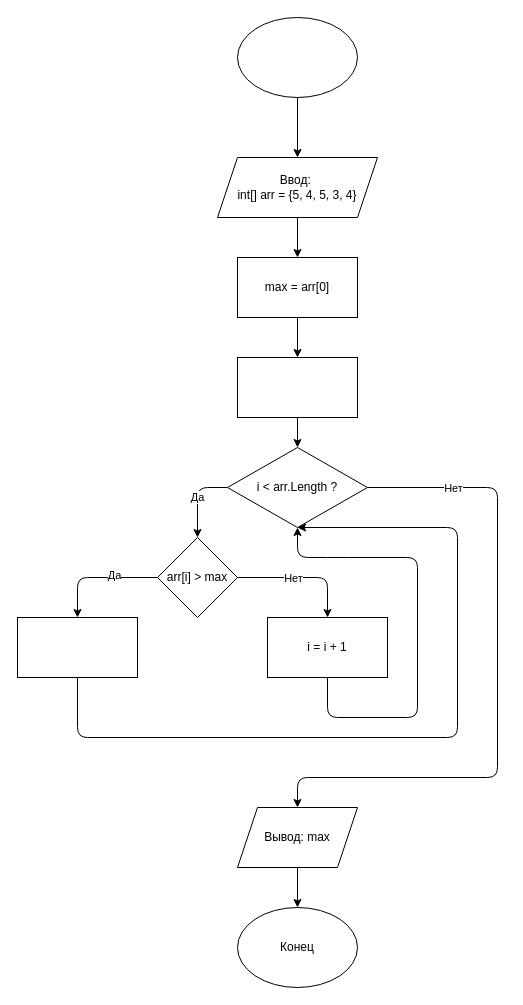
This 523x1005 diagram has some shape labels left out. Each missing label, with the centre of its shape:
"i = 1" belongs at point (297, 387).
"max = arr[i]" belongs at point (77, 647).
"Начало" belongs at point (297, 57).
